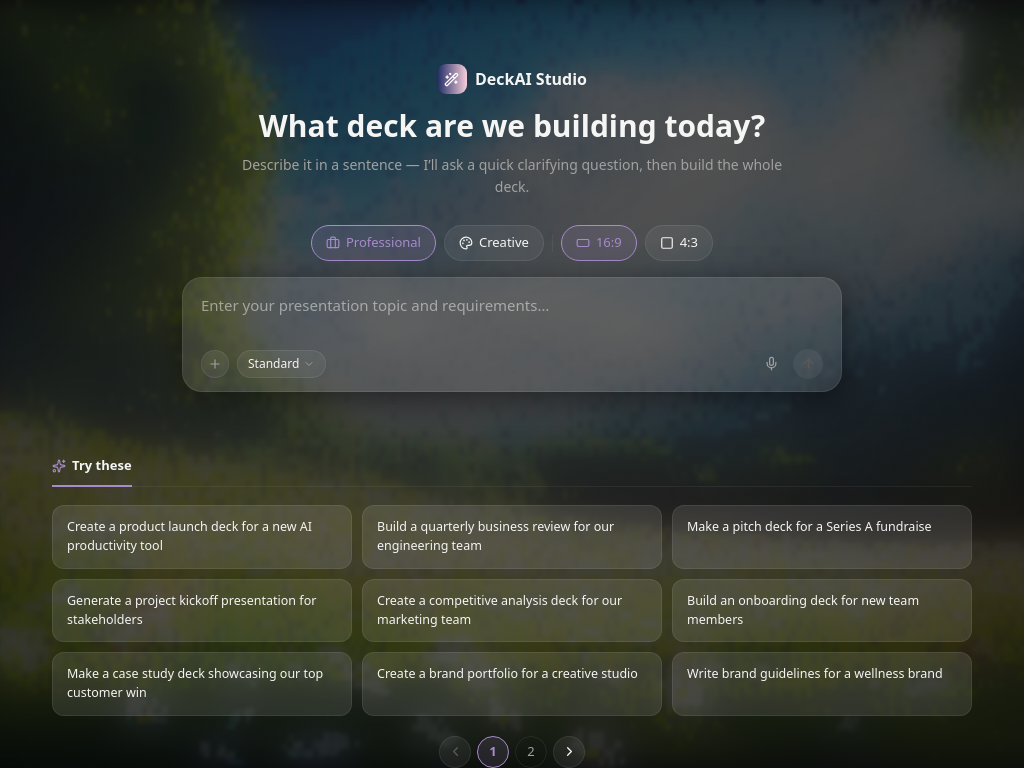
Scenario: creation screen › an unreachable service shows an inline error and keeps the prompt
This screenshot has width=1024, height=768.
Step 1. Type "A pitch for a bakery" into the text box labelled "Enter your presentation topic and requirements…" → coordinates (512, 316), box [201, 294, 823, 339]
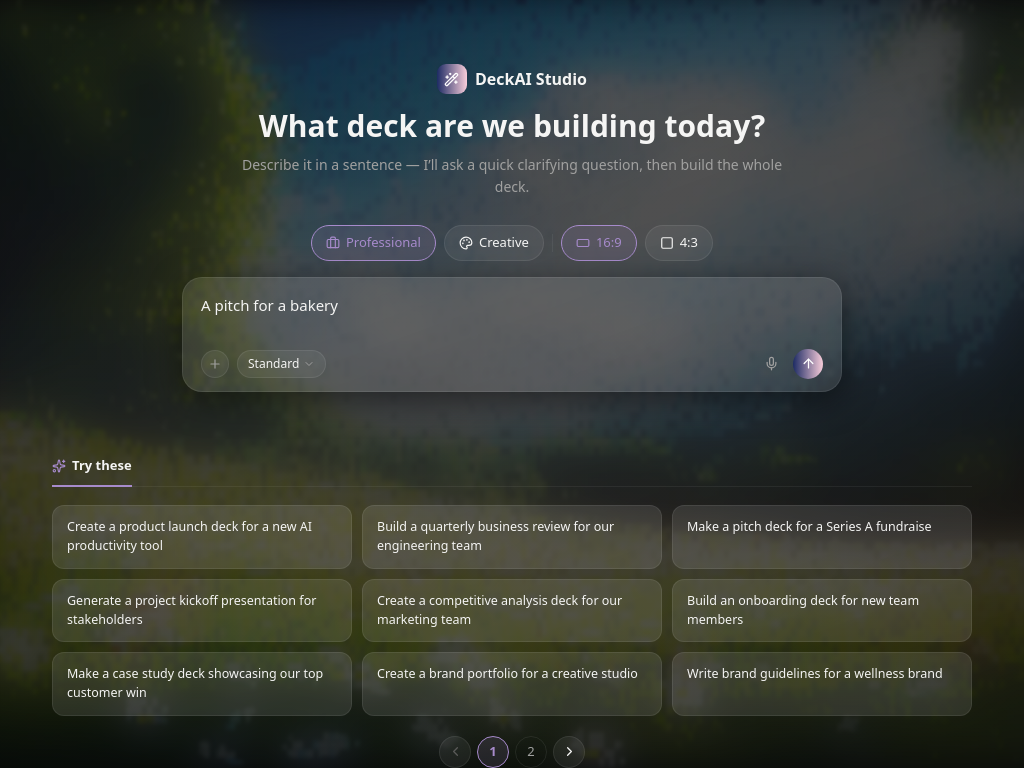
Step 2. Press Enter
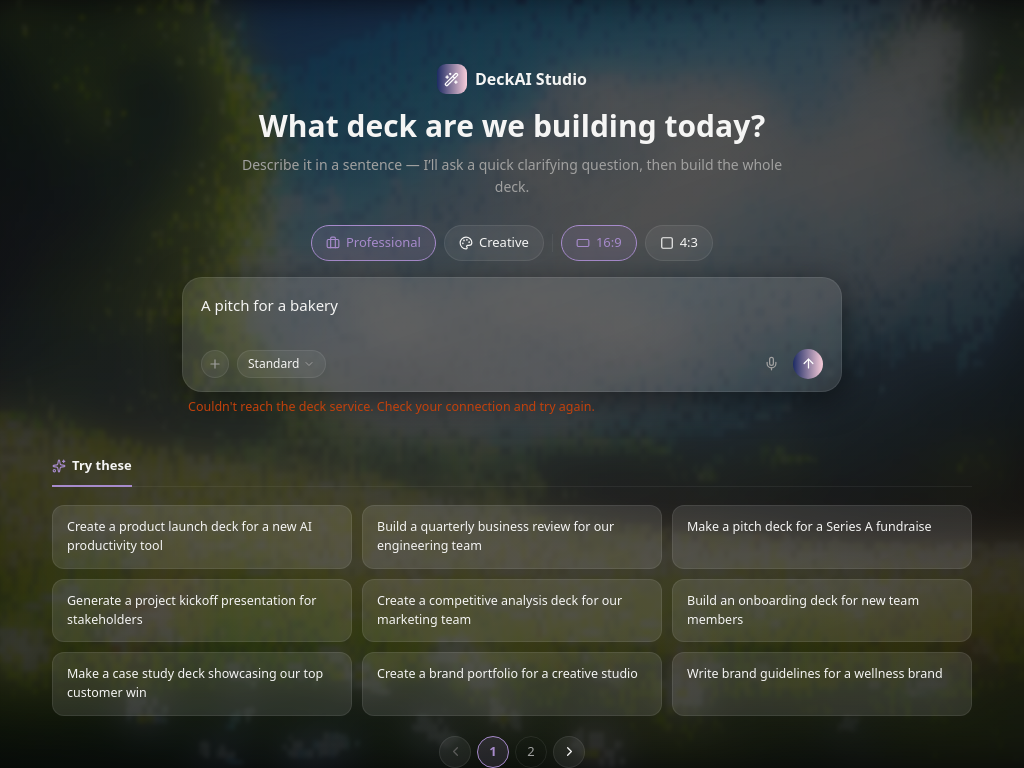
expect the message reads "Couldn't reach the deck service. Check your connection and try again.": met, box [188, 398, 595, 415]
# Editing the prompt clears the error.
Step 3. Type "!" into the text box named "presentation topic" → coordinates (512, 316), box [201, 294, 823, 339]
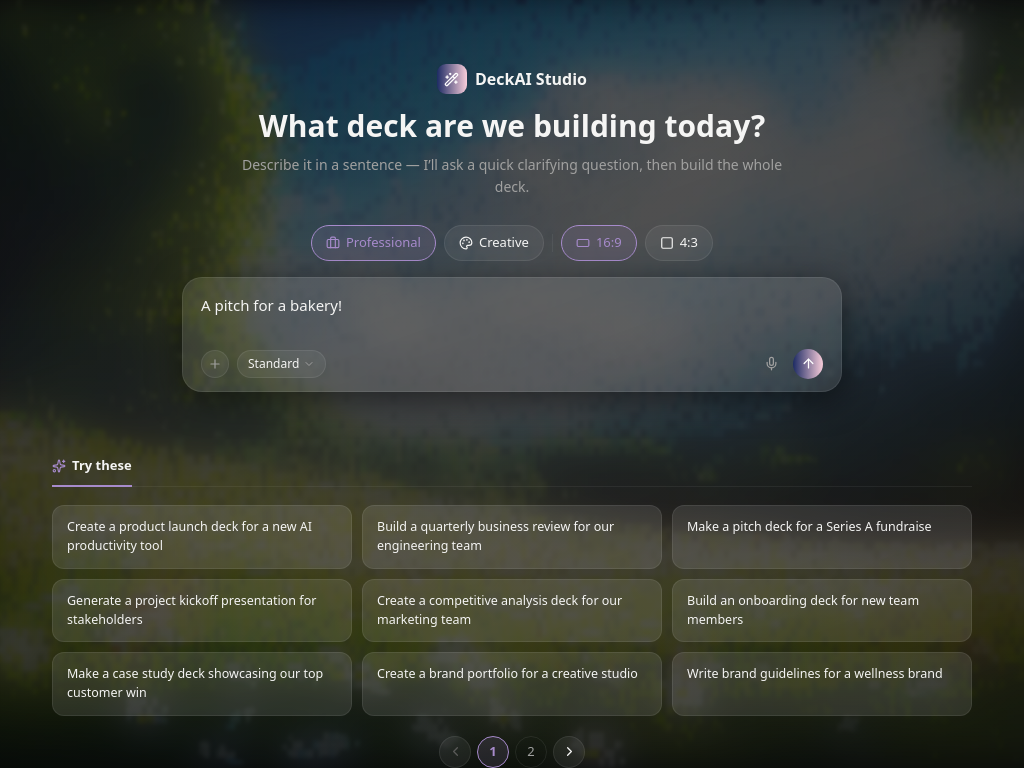
expect the message "Couldn't reach the deck service. Check your connection and try again." is gone: met
